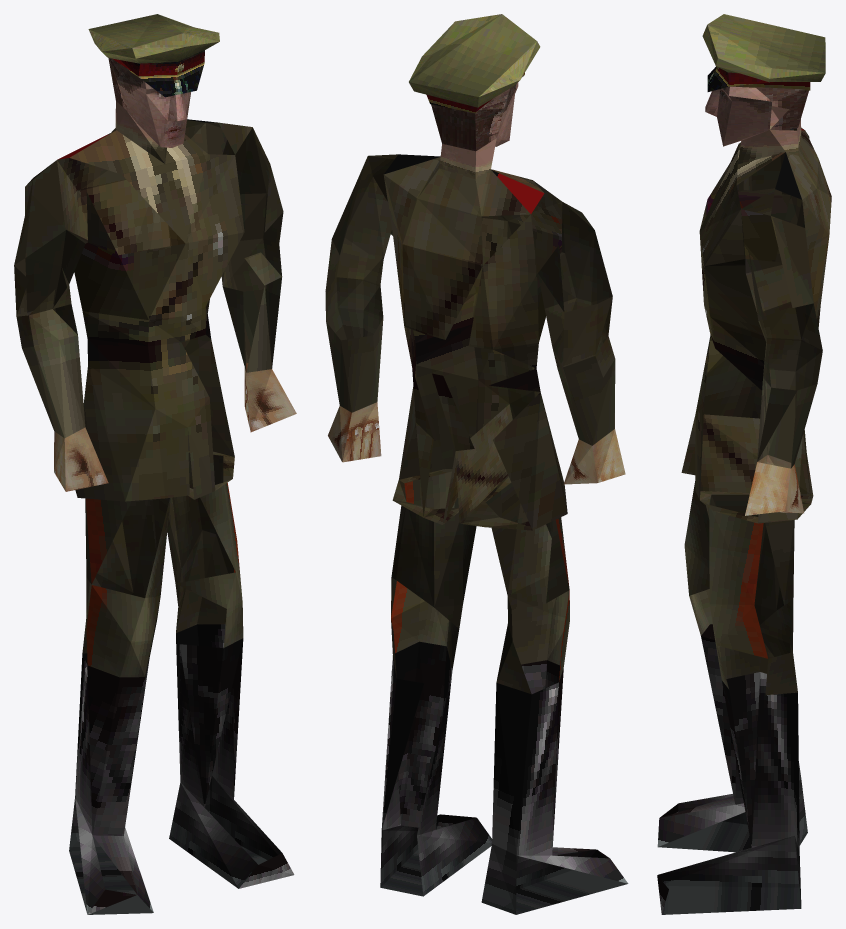
File: primary_116.glb
The picture shows the model from 3 angles, left to right: view 1: azimuth 30°, elevation 25°; view 2: azimuth 150°, elevation 25°; view 3: azimuth 270°, elevation 25°; orthographic projection.
Parts seen in each view (by area): view 1: Object; view 2: Object; view 3: Object.
Part boxes in pixels (left/top/right/bottom): Object: left=14, top=14, right=296, bottom=914; Object: left=325, top=14, right=628, bottom=914; Object: left=657, top=14, right=831, bottom=914.
Size of the model in its own units: 0.7074 by 2.16 by 0.4028.
108 materials, 108 textured.
